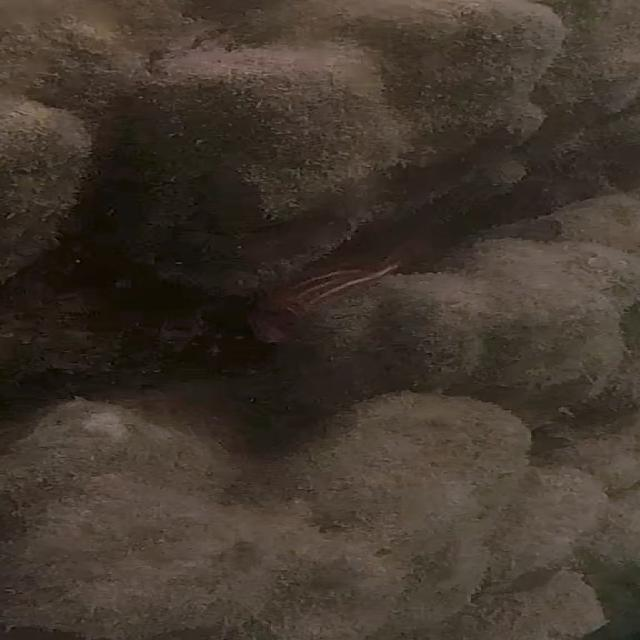Asker Baligi: (220, 239, 410, 358)
